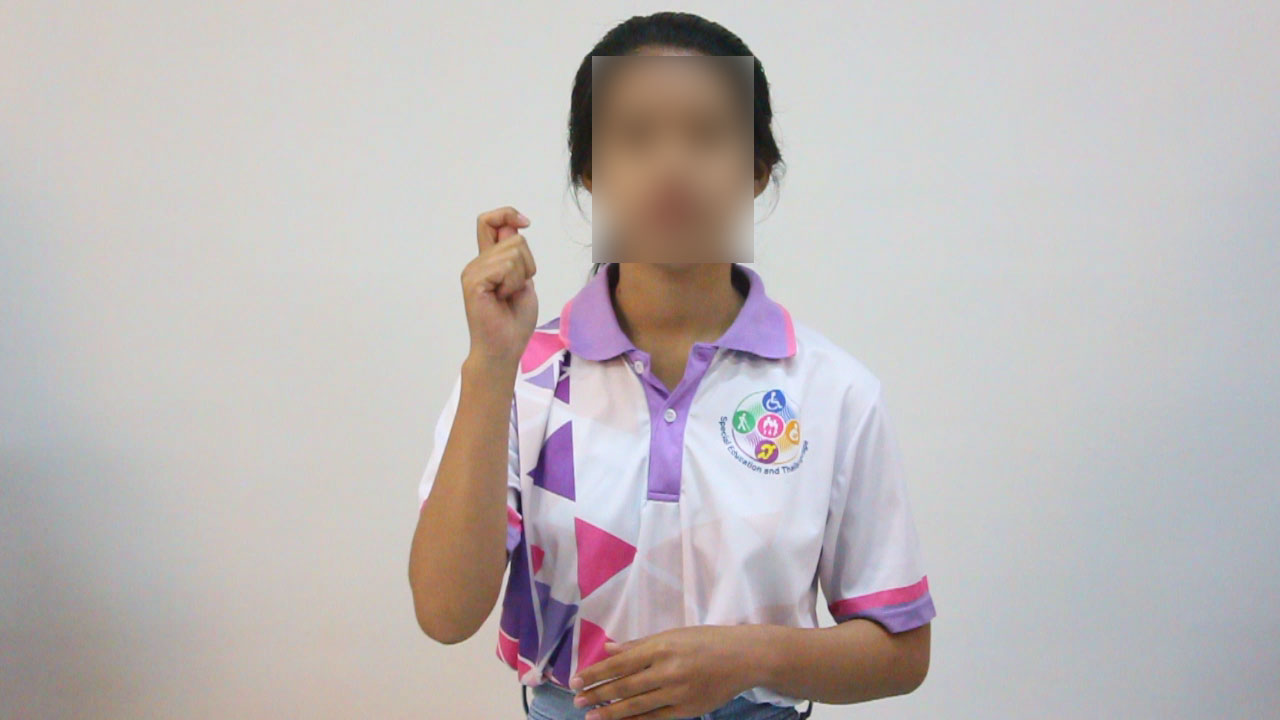or: (459, 198, 546, 377)
